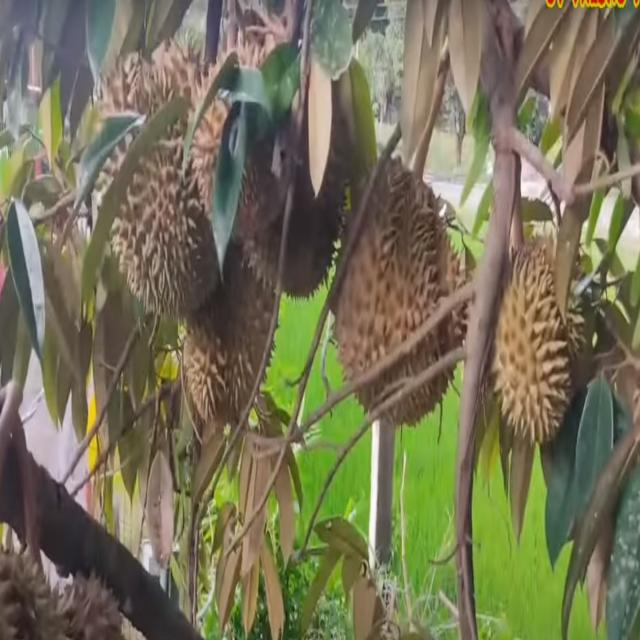mature: (102, 42, 240, 318), (336, 162, 462, 426), (491, 228, 580, 442)
